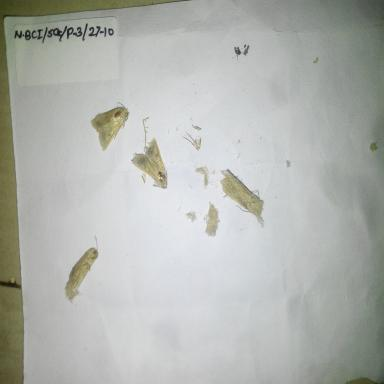abw: (218, 164, 267, 224), (64, 232, 102, 304), (128, 132, 171, 191), (89, 98, 132, 154)
